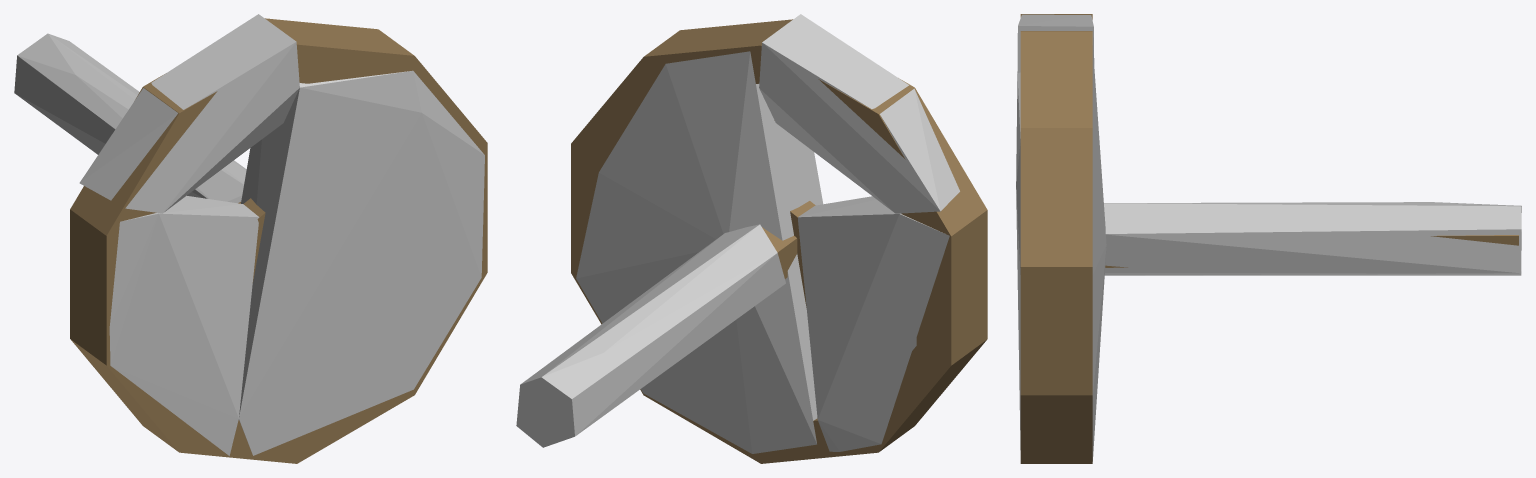
Rendered from SM_Prop_Signal_Horn_01_Wheel_01.fbx.
3 views of the same model, side by side, from view 1: azimuth 30°, elevation 25°; view 2: azimuth 150°, elevation 25°; view 3: azimuth 270°, elevation 25° (orthographic).
Parts seen in each view (by area): view 1: SM_Prop_Signal_Horn_01_Wheel_01_ConvexHulls, SM_Prop_Signal_Horn_01_Wheel_01; view 2: SM_Prop_Signal_Horn_01_Wheel_01_ConvexHulls, SM_Prop_Signal_Horn_01_Wheel_01; view 3: SM_Prop_Signal_Horn_01_Wheel_01_ConvexHulls, SM_Prop_Signal_Horn_01_Wheel_01.
Boxes of the visible parts, left/top/right/bottom form: SM_Prop_Signal_Horn_01_Wheel_01_ConvexHulls: left=14, top=14, right=484, bottom=455; SM_Prop_Signal_Horn_01_Wheel_01: left=70, top=18, right=487, bottom=463; SM_Prop_Signal_Horn_01_Wheel_01_ConvexHulls: left=516, top=14, right=959, bottom=453; SM_Prop_Signal_Horn_01_Wheel_01: left=571, top=19, right=987, bottom=463; SM_Prop_Signal_Horn_01_Wheel_01_ConvexHulls: left=1016, top=14, right=1521, bottom=461; SM_Prop_Signal_Horn_01_Wheel_01: left=1020, top=14, right=1518, bottom=463.
Bounding box in the file's own units: 18.51 × 21.48 × 19.67.
2 materials, 1 textured.
